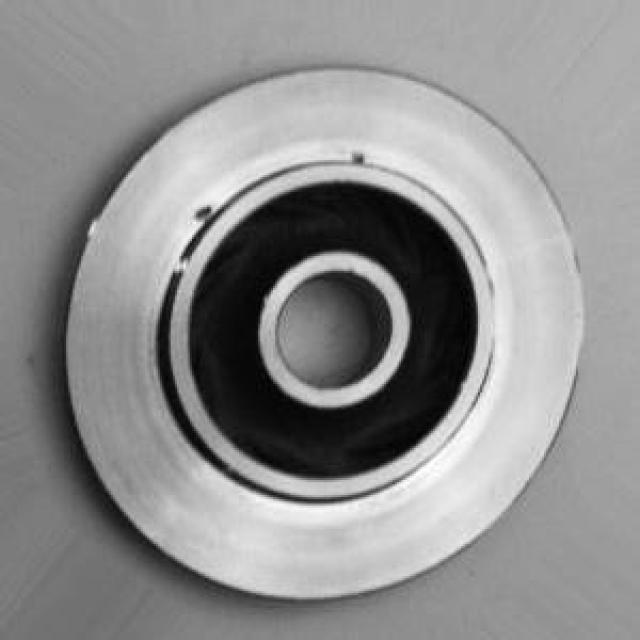Defect: (340, 142, 377, 175)
